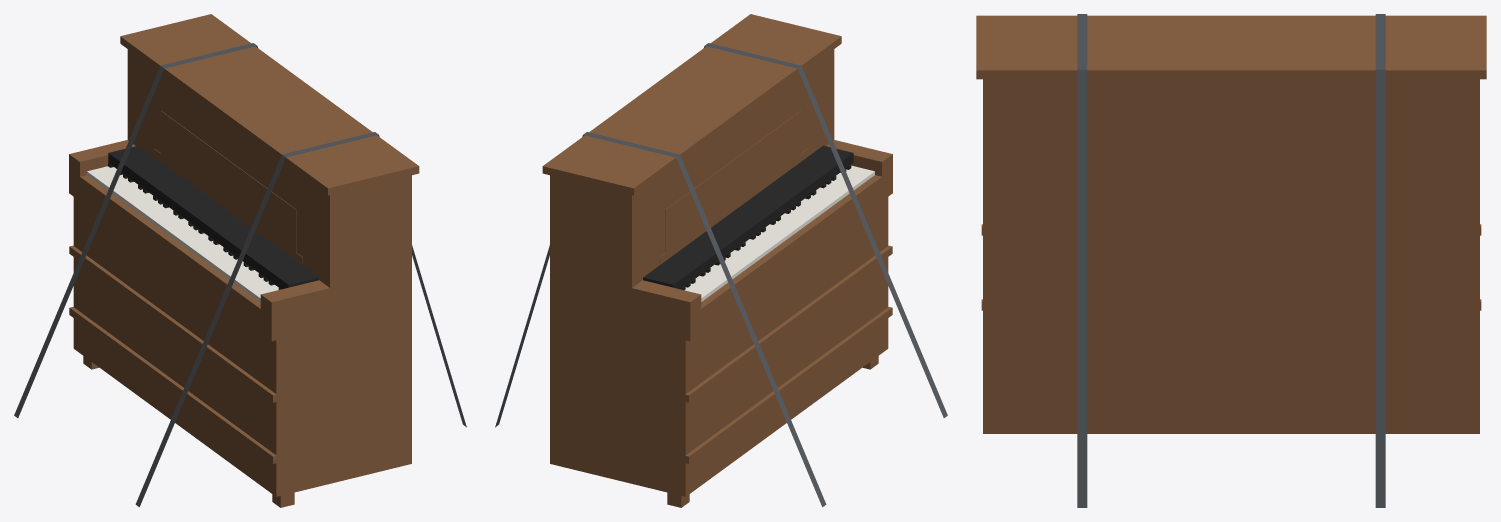
Rendered from upright-piano.glb.
The picture shows the model from 3 angles, left to right: view 1: azimuth 30°, elevation 25°; view 2: azimuth 150°, elevation 25°; view 3: azimuth 270°, elevation 25°; orthographic projection. The views are drawn at different scales.
Parts seen in each view (by area): view 1: UprightPiano; view 2: UprightPiano; view 3: UprightPiano.
Part boxes in pixels (left/top/right/bottom): UprightPiano: left=14, top=14, right=466, bottom=507; UprightPiano: left=495, top=14, right=947, bottom=507; UprightPiano: left=976, top=14, right=1486, bottom=507.
Size of the model in its own units: 1.4 by 1.28 by 1.54.
